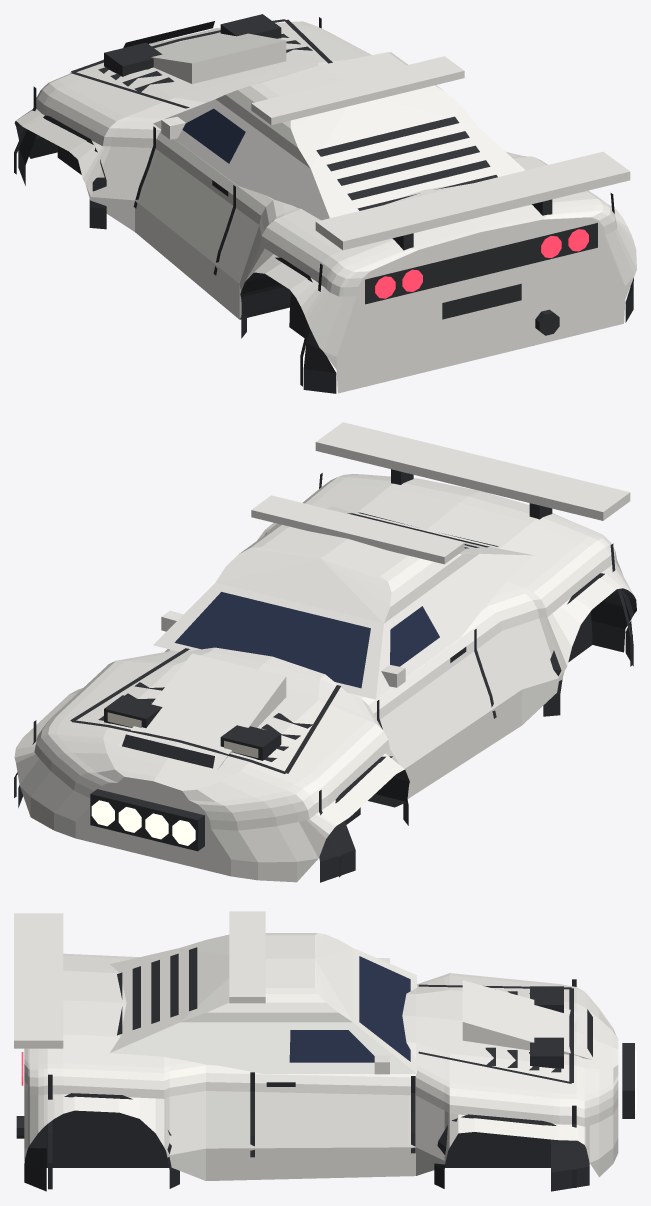
File: Cuneo.fbx
3 renders of one model, top to bottom at view 1: azimuth 30°, elevation 25°; view 2: azimuth 150°, elevation 25°; view 3: azimuth 270°, elevation 25°, orthographic. The views are drawn at different scales.
Visible parts, largest first — view 1: BumperRear, Roof, Opt_Wing_Rally_WingBlade, Door_FL, Fender_FL, Fender_RL, Hood, EngineCover, RoofSpoiler, Louver, Opt_Hood_Scoop_HoodScoop, TailGarnish (+17 smaller); view 2: BumperFront, Fender_RL, Roof, Door_FL, Hood, Opt_Wing_Rally_WingBlade, Cowl, Windshield, Opt_Hood_Scoop_HoodScoop, Pillars, Fender_FL, RoofSpoiler (+16 smaller); view 3: Door_FR, Fender_RR, Roof, WheelWell, Hood, Fender_FR, Cowl, Opt_Wing_Rally_WingBlade, BumperFront, Opt_Hood_Scoop_HoodScoop, RearQuarter, Pillars (+15 smaller).
Part boxes in pixels (left/top/right/bottom): BumperRear: left=304, top=199, right=636, bottom=393; Roof: left=216, top=52, right=478, bottom=168; Opt_Wing_Rally_WingBlade: left=315, top=151, right=630, bottom=250; Door_FL: left=135, top=130, right=245, bottom=300; Fender_FL: left=16, top=79, right=164, bottom=231; Fender_RL: left=217, top=188, right=346, bottom=319; Hood: left=58, top=21, right=363, bottom=118; EngineCover: left=311, top=128, right=525, bottom=217; RoofSpoiler: left=251, top=56, right=464, bottom=124; Louver: left=316, top=116, right=497, bottom=210; Opt_Hood_Scoop_HoodScoop: left=149, top=28, right=286, bottom=83; TailGarnish: left=365, top=223, right=597, bottom=304; BumperFront: left=14, top=726, right=335, bottom=882; Fender_RL: left=467, top=536, right=631, bottom=742; Roof: left=215, top=524, right=478, bottom=623; Door_FL: left=353, top=630, right=495, bottom=798; Hood: left=58, top=651, right=367, bottom=784; Opt_Wing_Rally_WingBlade: left=315, top=422, right=630, bottom=520; Cowl: left=177, top=483, right=580, bottom=694; Windshield: left=174, top=592, right=370, bottom=688; Opt_Hood_Scoop_HoodScoop: left=118, top=653, right=286, bottom=769; Pillars: left=153, top=582, right=457, bottom=699; Fender_FL: left=294, top=695, right=404, bottom=825; RoofSpoiler: left=251, top=495, right=464, bottom=564; Door_FR: left=250, top=1071, right=415, bottom=1179; Fender_RR: left=47, top=1062, right=249, bottom=1180; Roof: left=180, top=933, right=352, bottom=1022; WheelWell: left=24, top=1110, right=589, bottom=1167; Hood: left=416, top=975, right=576, bottom=1093; Fender_FR: left=416, top=1065, right=576, bottom=1175; Cowl: left=63, top=956, right=415, bottom=1067; Opt_Wing_Rally_WingBlade: left=14, top=913, right=63, bottom=1048; BumperFront: left=576, top=987, right=618, bottom=1177; Opt_Hood_Scoop_HoodScoop: left=462, top=980, right=592, bottom=1059; RearQuarter: left=110, top=1022, right=280, bottom=1073; Pillars: left=268, top=948, right=416, bottom=1073.
Bounding box in the file's own units: 666 × 350 × 1201.
